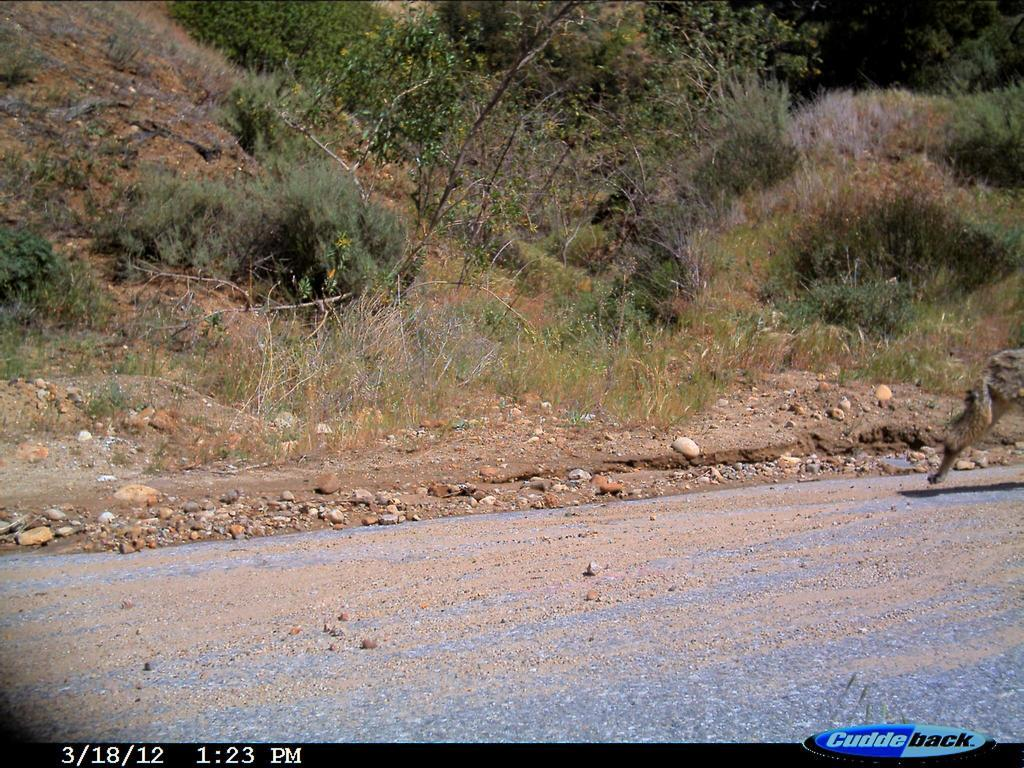coyote: (914, 342, 1023, 514)
